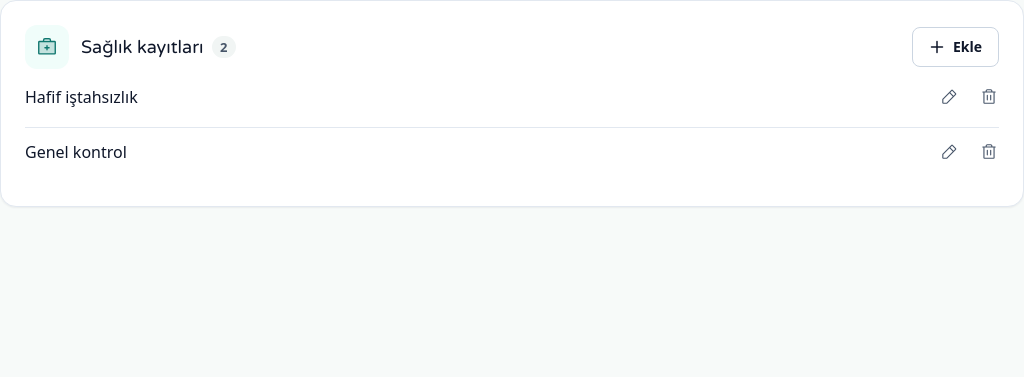
Test: RecordSection › edits a record in place
Click the button named "2026-09-02 tarihli sağlık kaydını düzenle" at (949, 97), box [931,79,967,115]
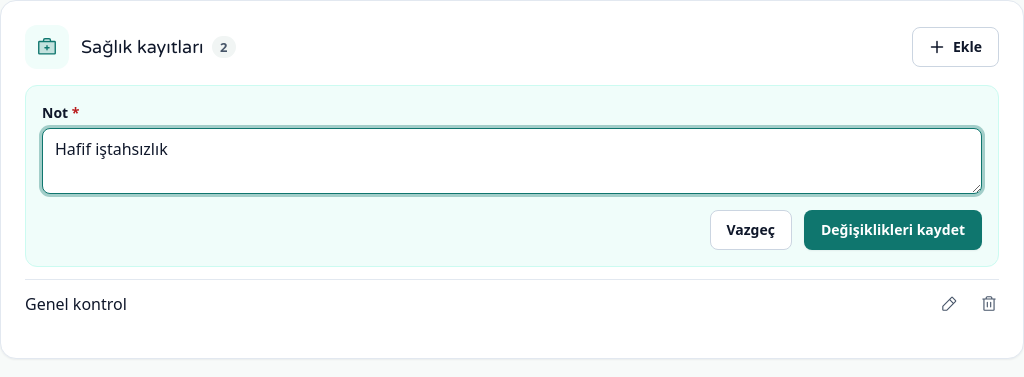
Check: the text box labelled "Not *" holds "Hafif iştahsızlık"
Replace the text in the text box labelled "Not *" with "Düzeldi" at (512, 161), box [42,128,982,194]
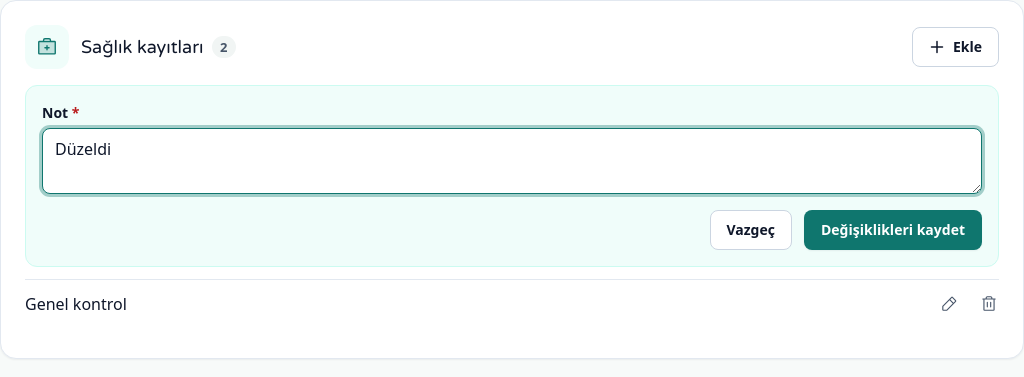
Click the button "Değişiklikleri kaydet" at (893, 230), box [804,210,982,250]
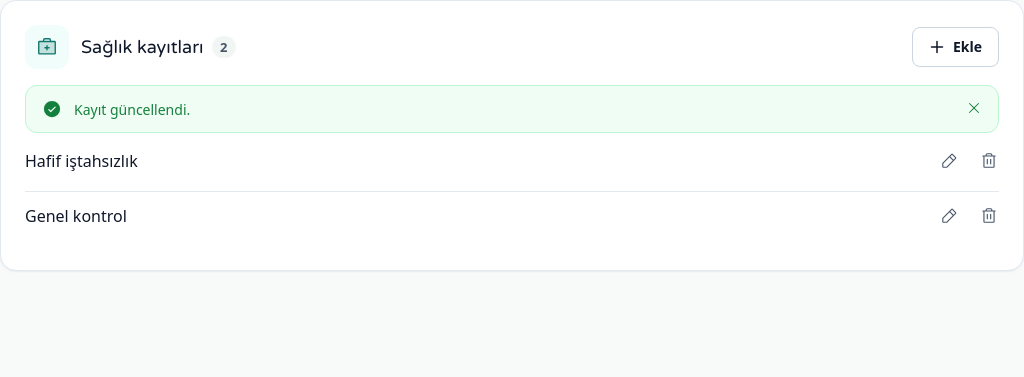
Check: the text "Kayıt güncellendi." is shown, box [74,100,190,119]
Check: the button "Değişiklikleri kaydet" is gone
